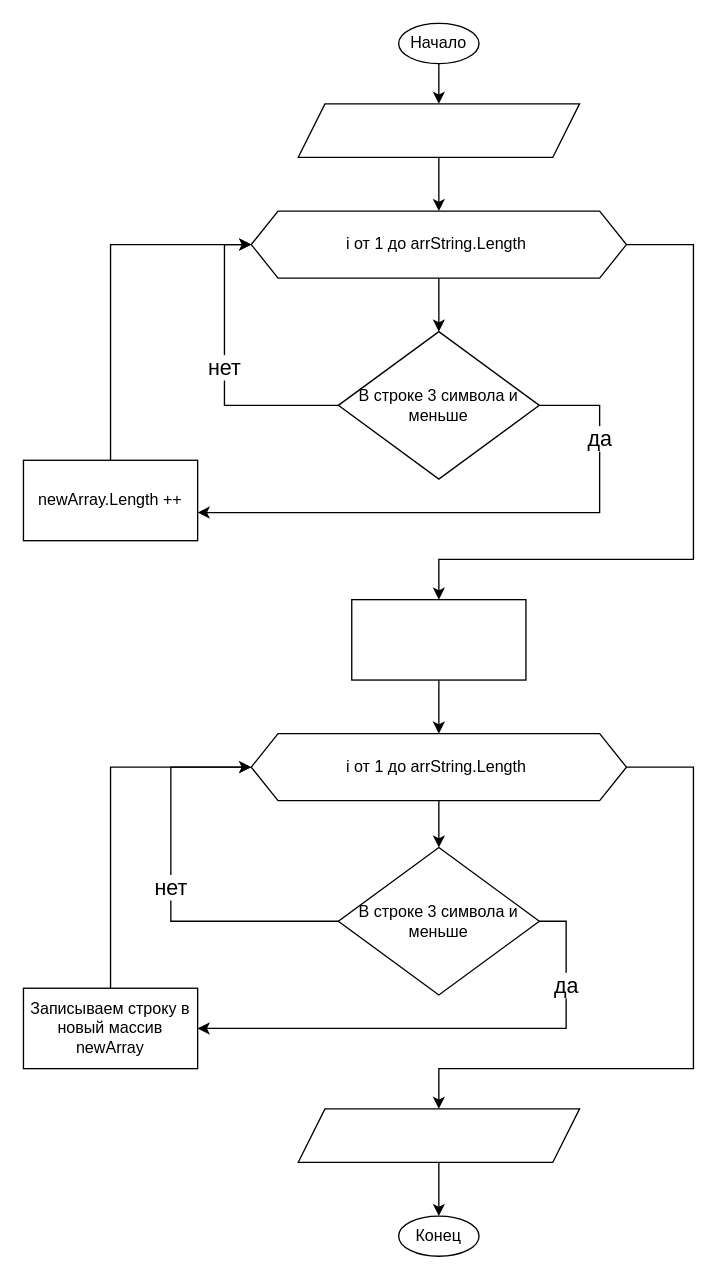
Some shapes in this 728 by 1280 pixel diagram are drawn without their labels. Here are the shapes that lost their labels. From the top down, the centre of each, then its label:
point (438, 130): Изначально заданный массив строк arrString
point (438, 639): Создаем новый массив newArray
point (438, 1135): Заполненный массив newArray
